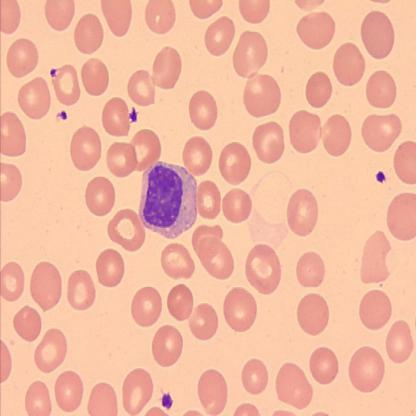Metamyelocyte: (137, 158, 199, 241)
